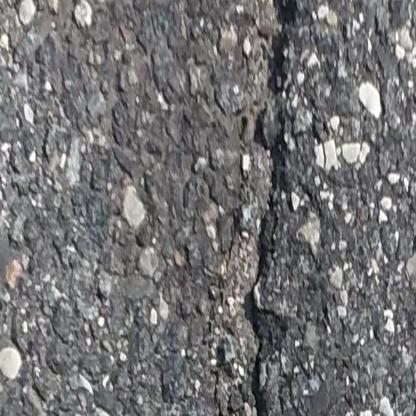Cracks: (202, 0, 303, 416)
